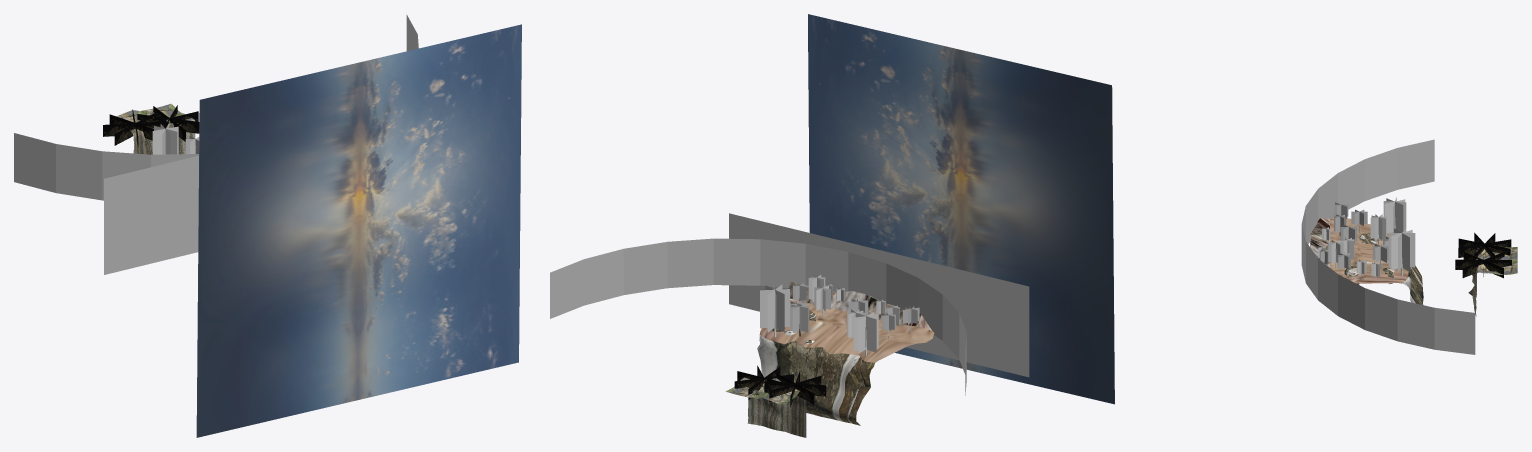
The model's file is Frost.fbx.
3 views of the same model, side by side, from view 1: azimuth 30°, elevation 25°; view 2: azimuth 150°, elevation 25°; view 3: azimuth 270°, elevation 25° (orthographic). The views are drawn at different scales.
Parts seen in each view (by area): view 1: Plane.003, Plane.002, Cylinder.014, Bush.001, Plane.001, Bush.010, Cylinder.013; view 2: Plane.003, Cylinder.014, Plane.002, Grid, Plane.001, Cylinder.012, Bush.001, Cylinder.013, Bush.010, Tree.003; view 3: Cylinder.014, Grid, Cylinder.012, Bush.001, Bush.010, Plane.001, Cylinder.013, Cylinder.011.
Part boxes in pixels (left/top/right/bottom): Plane.003: left=196, top=24, right=521, bottom=437; Plane.002: left=104, top=155, right=198, bottom=274; Cylinder.014: left=14, top=14, right=418, bottom=200; Bush.001: left=103, top=109, right=168, bottom=147; Plane.001: left=116, top=103, right=195, bottom=154; Bush.010: left=137, top=105, right=199, bottom=141; Cylinder.013: left=152, top=123, right=178, bottom=154; Plane.003: left=808, top=14, right=1114, bottom=404; Cylinder.014: left=550, top=238, right=966, bottom=395; Plane.002: left=729, top=213, right=1029, bottom=377; Grid: left=757, top=281, right=934, bottom=425; Plane.001: left=725, top=377, right=806, bottom=437; Cylinder.012: left=760, top=284, right=789, bottom=337; Bush.001: left=764, top=371, right=826, bottom=407; Cylinder.013: left=853, top=312, right=878, bottom=355; Bush.010: left=734, top=365, right=793, bottom=399; Tree.003: left=790, top=303, right=809, bottom=336; Cylinder.014: left=1301, top=139, right=1475, bottom=354; Grid: left=1310, top=218, right=1423, bottom=304; Cylinder.012: left=1388, top=228, right=1415, bottom=275; Bush.001: left=1458, top=232, right=1511, bottom=259; Bush.010: left=1455, top=252, right=1511, bottom=278; Plane.001: left=1468, top=247, right=1517, bottom=316; Cylinder.013: left=1383, top=197, right=1406, bottom=233; Cylinder.011: left=1370, top=214, right=1386, bottom=244.
Bounding box in the file's own units: 8432 × 6591 × 7687.
